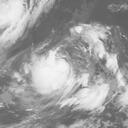cyclone: (30, 49, 75, 96)
